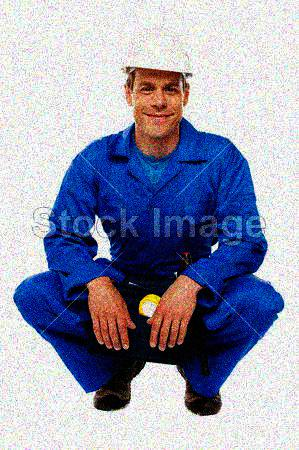helmet: (119, 22, 195, 136)
